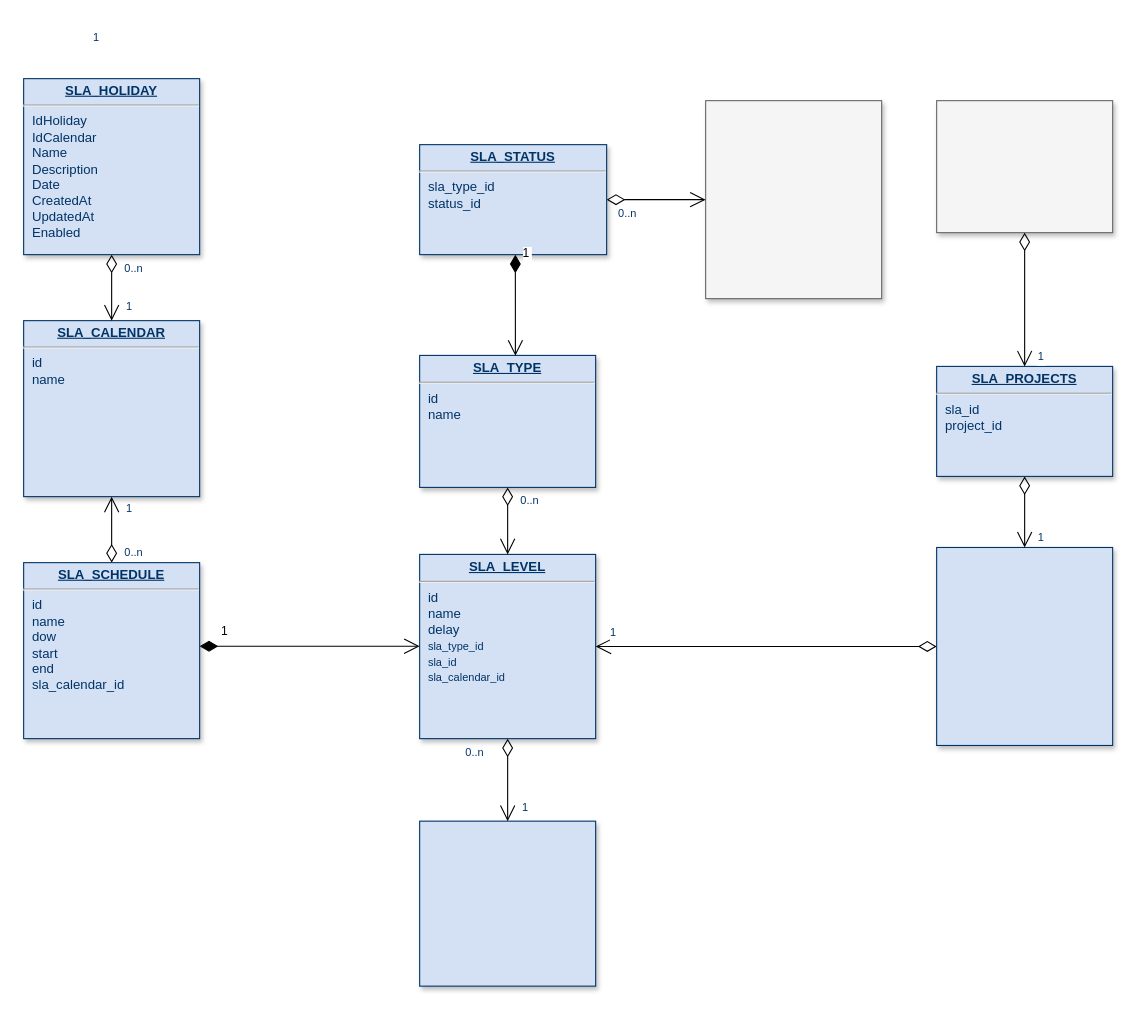
The diagram is 1139 pixels wide and 1013 high, and some of its shapes have lost their labels. The centre of each missing label's shape, as x and y in pixels:
project id name: (1025,167)
SLA id name: (1025,647)
SLA_TRACKER id name: (508,905)
status id name: (794,200)
